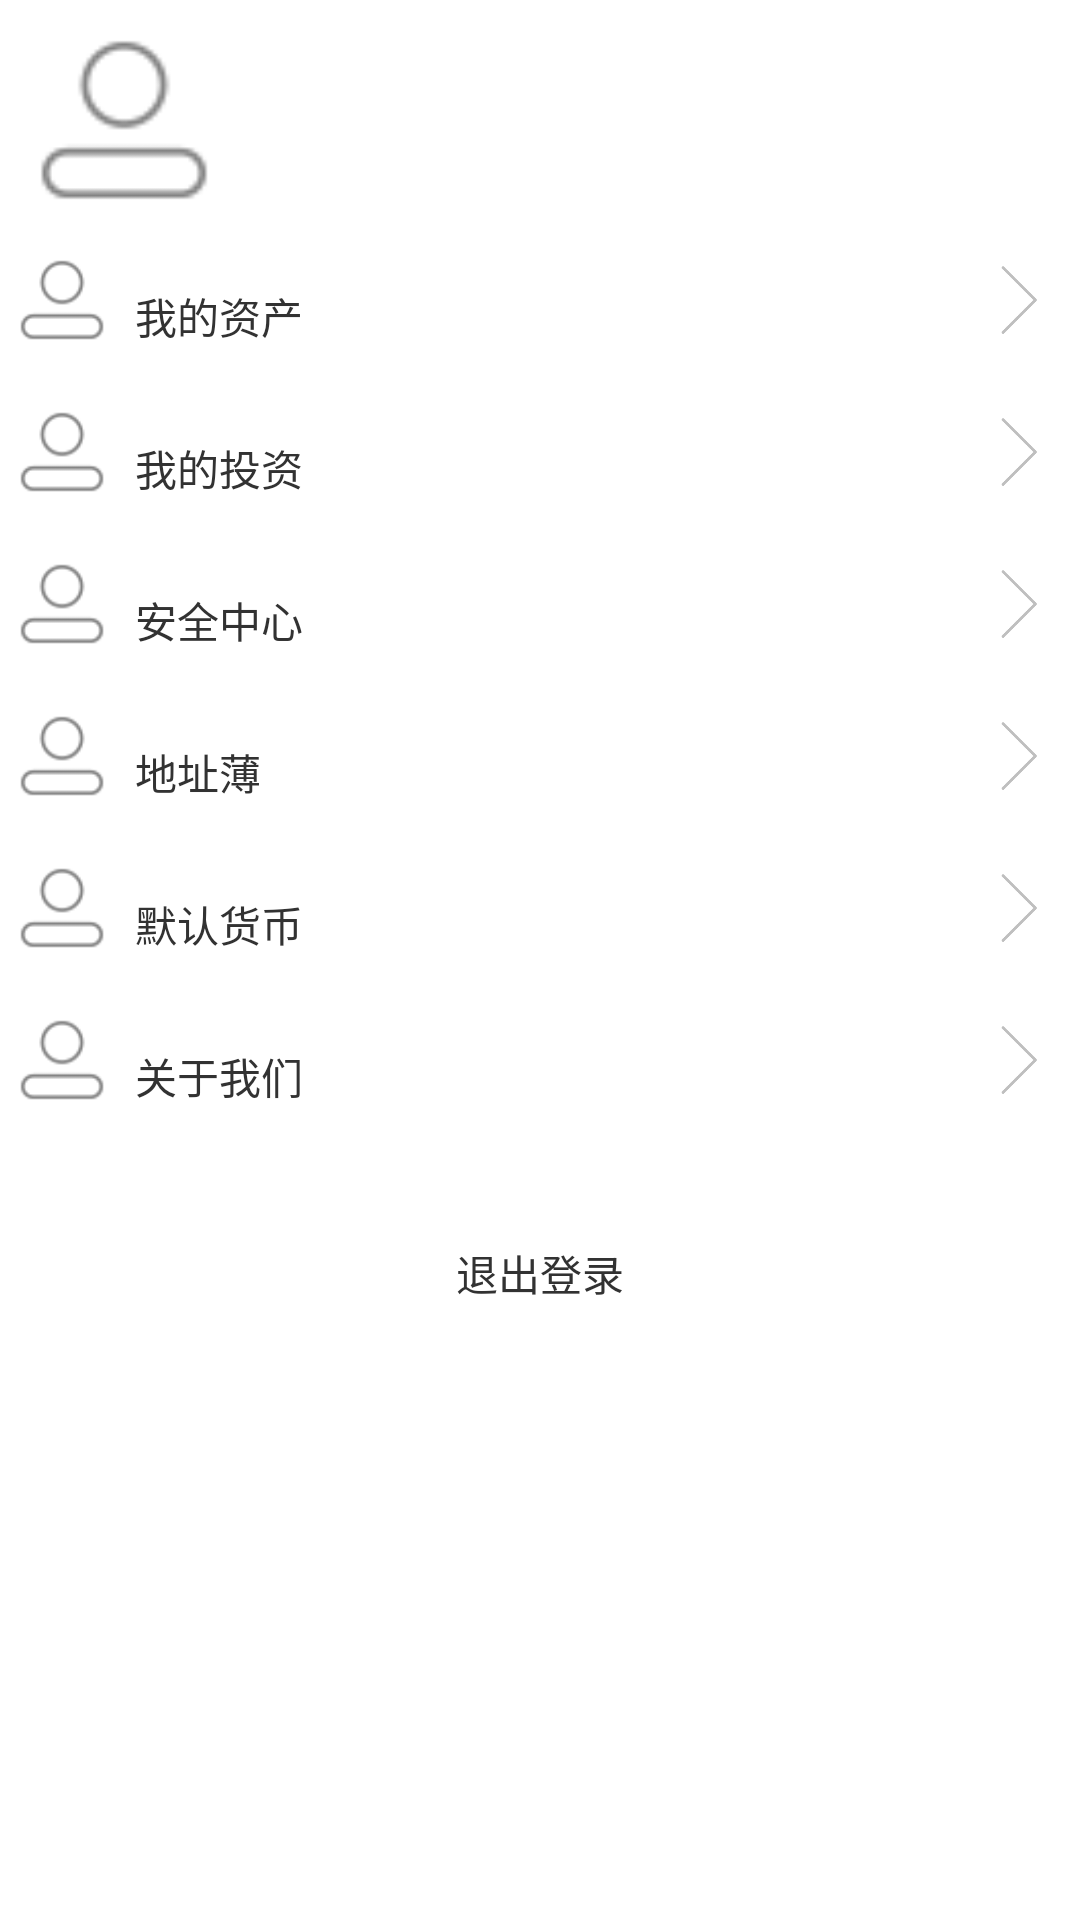

Screen size 1080*1920. Icon name, then its center in pixels as (x=x, y=y):
right: (x=1019, y=300), (x=1019, y=452), (x=1019, y=604), (x=1019, y=756), (x=1019, y=908), (x=1019, y=1060)
